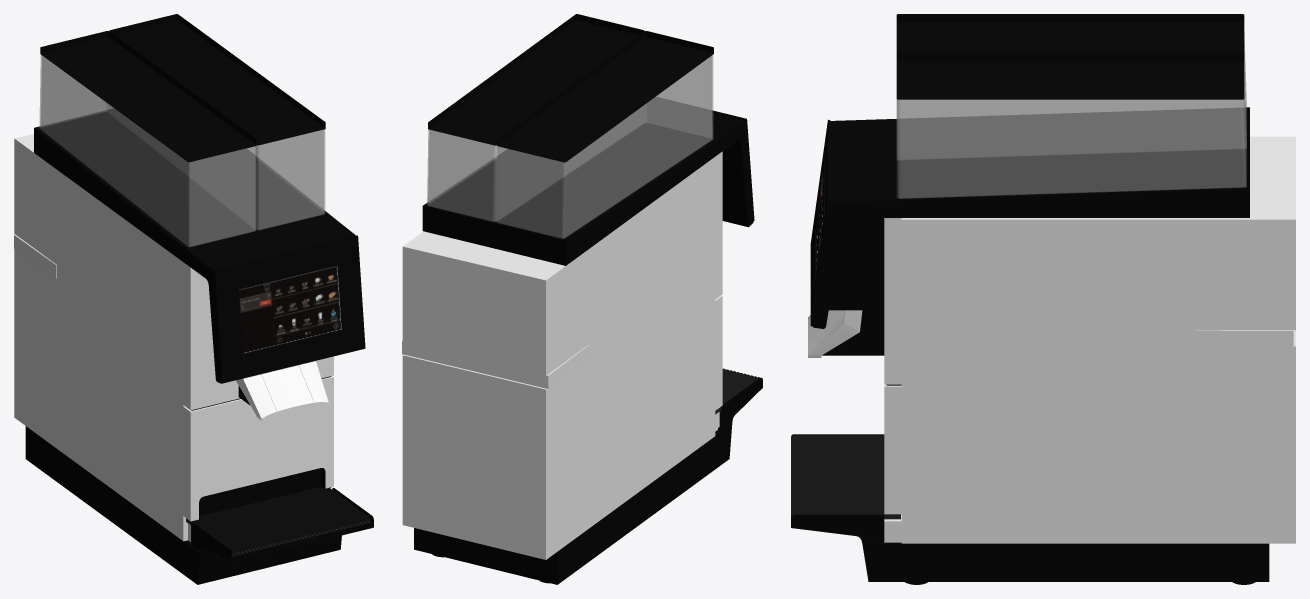
Rendered from coffee_machine.glb.
3 renders of one model, left to right at view 1: azimuth 30°, elevation 25°; view 2: azimuth 150°, elevation 25°; view 3: azimuth 270°, elevation 25°, orthographic. The views are drawn at different scales.
Parts seen in each view (by area): view 1: Object_4_mesh, Object_14_mesh, Object_40_mesh, Object_16_mesh, Object_44_mesh, Object_12_mesh, Object_27_mesh, Object_6_mesh, Object_36_mesh, Object_28_mesh, Object_10_mesh, Object_23_mesh (+3 smaller); view 2: Object_4_mesh, Object_14_mesh, Object_40_mesh, Object_44_mesh, Object_12_mesh, Object_6_mesh, Object_10_mesh, Object_16_mesh, Object_30_mesh, Object_36_mesh; view 3: Object_4_mesh, Object_14_mesh, Object_10_mesh, Object_12_mesh, Object_6_mesh, Object_44_mesh, Object_36_mesh, Object_16_mesh, Object_19_mesh, Object_32_mesh, Object_23_mesh, Object_27_mesh (+2 smaller).
Boxes of the visible parts, x1,y1,x2,y2 form: Object_4_mesh: (14, 134, 187, 541); Object_14_mesh: (34, 109, 355, 383); Object_40_mesh: (39, 55, 256, 246); Object_16_mesh: (183, 262, 333, 521); Object_44_mesh: (40, 31, 256, 162); Object_12_mesh: (109, 14, 325, 145); Object_27_mesh: (214, 235, 365, 383); Object_6_mesh: (25, 426, 341, 584); Object_36_mesh: (186, 486, 370, 556); Object_28_mesh: (239, 266, 341, 353); Object_10_mesh: (255, 129, 325, 229); Object_23_mesh: (236, 361, 328, 420); Object_4_mesh: (402, 157, 715, 559); Object_14_mesh: (422, 99, 753, 265); Object_40_mesh: (496, 55, 713, 238); Object_44_mesh: (497, 31, 713, 162); Object_12_mesh: (428, 14, 644, 145); Object_6_mesh: (414, 424, 732, 584); Object_10_mesh: (427, 129, 498, 232); Object_16_mesh: (715, 151, 722, 410); Object_30_mesh: (721, 377, 762, 430); Object_36_mesh: (715, 368, 759, 414); Object_4_mesh: (901, 136, 1295, 543); Object_14_mesh: (813, 107, 1249, 328); Object_10_mesh: (896, 71, 1246, 198); Object_12_mesh: (896, 53, 1244, 99); Object_6_mesh: (862, 542, 1269, 581); Object_44_mesh: (896, 14, 1244, 53); Object_36_mesh: (791, 435, 900, 519); Object_16_mesh: (884, 218, 901, 514); Object_19_mesh: (829, 218, 884, 310); Object_32_mesh: (791, 514, 884, 543); Object_23_mesh: (808, 310, 862, 357); Object_27_mesh: (810, 119, 830, 326).
Size of the model in its own units: 0.2305 by 0.6404 by 0.5912.
7 materials, 1 textured.
